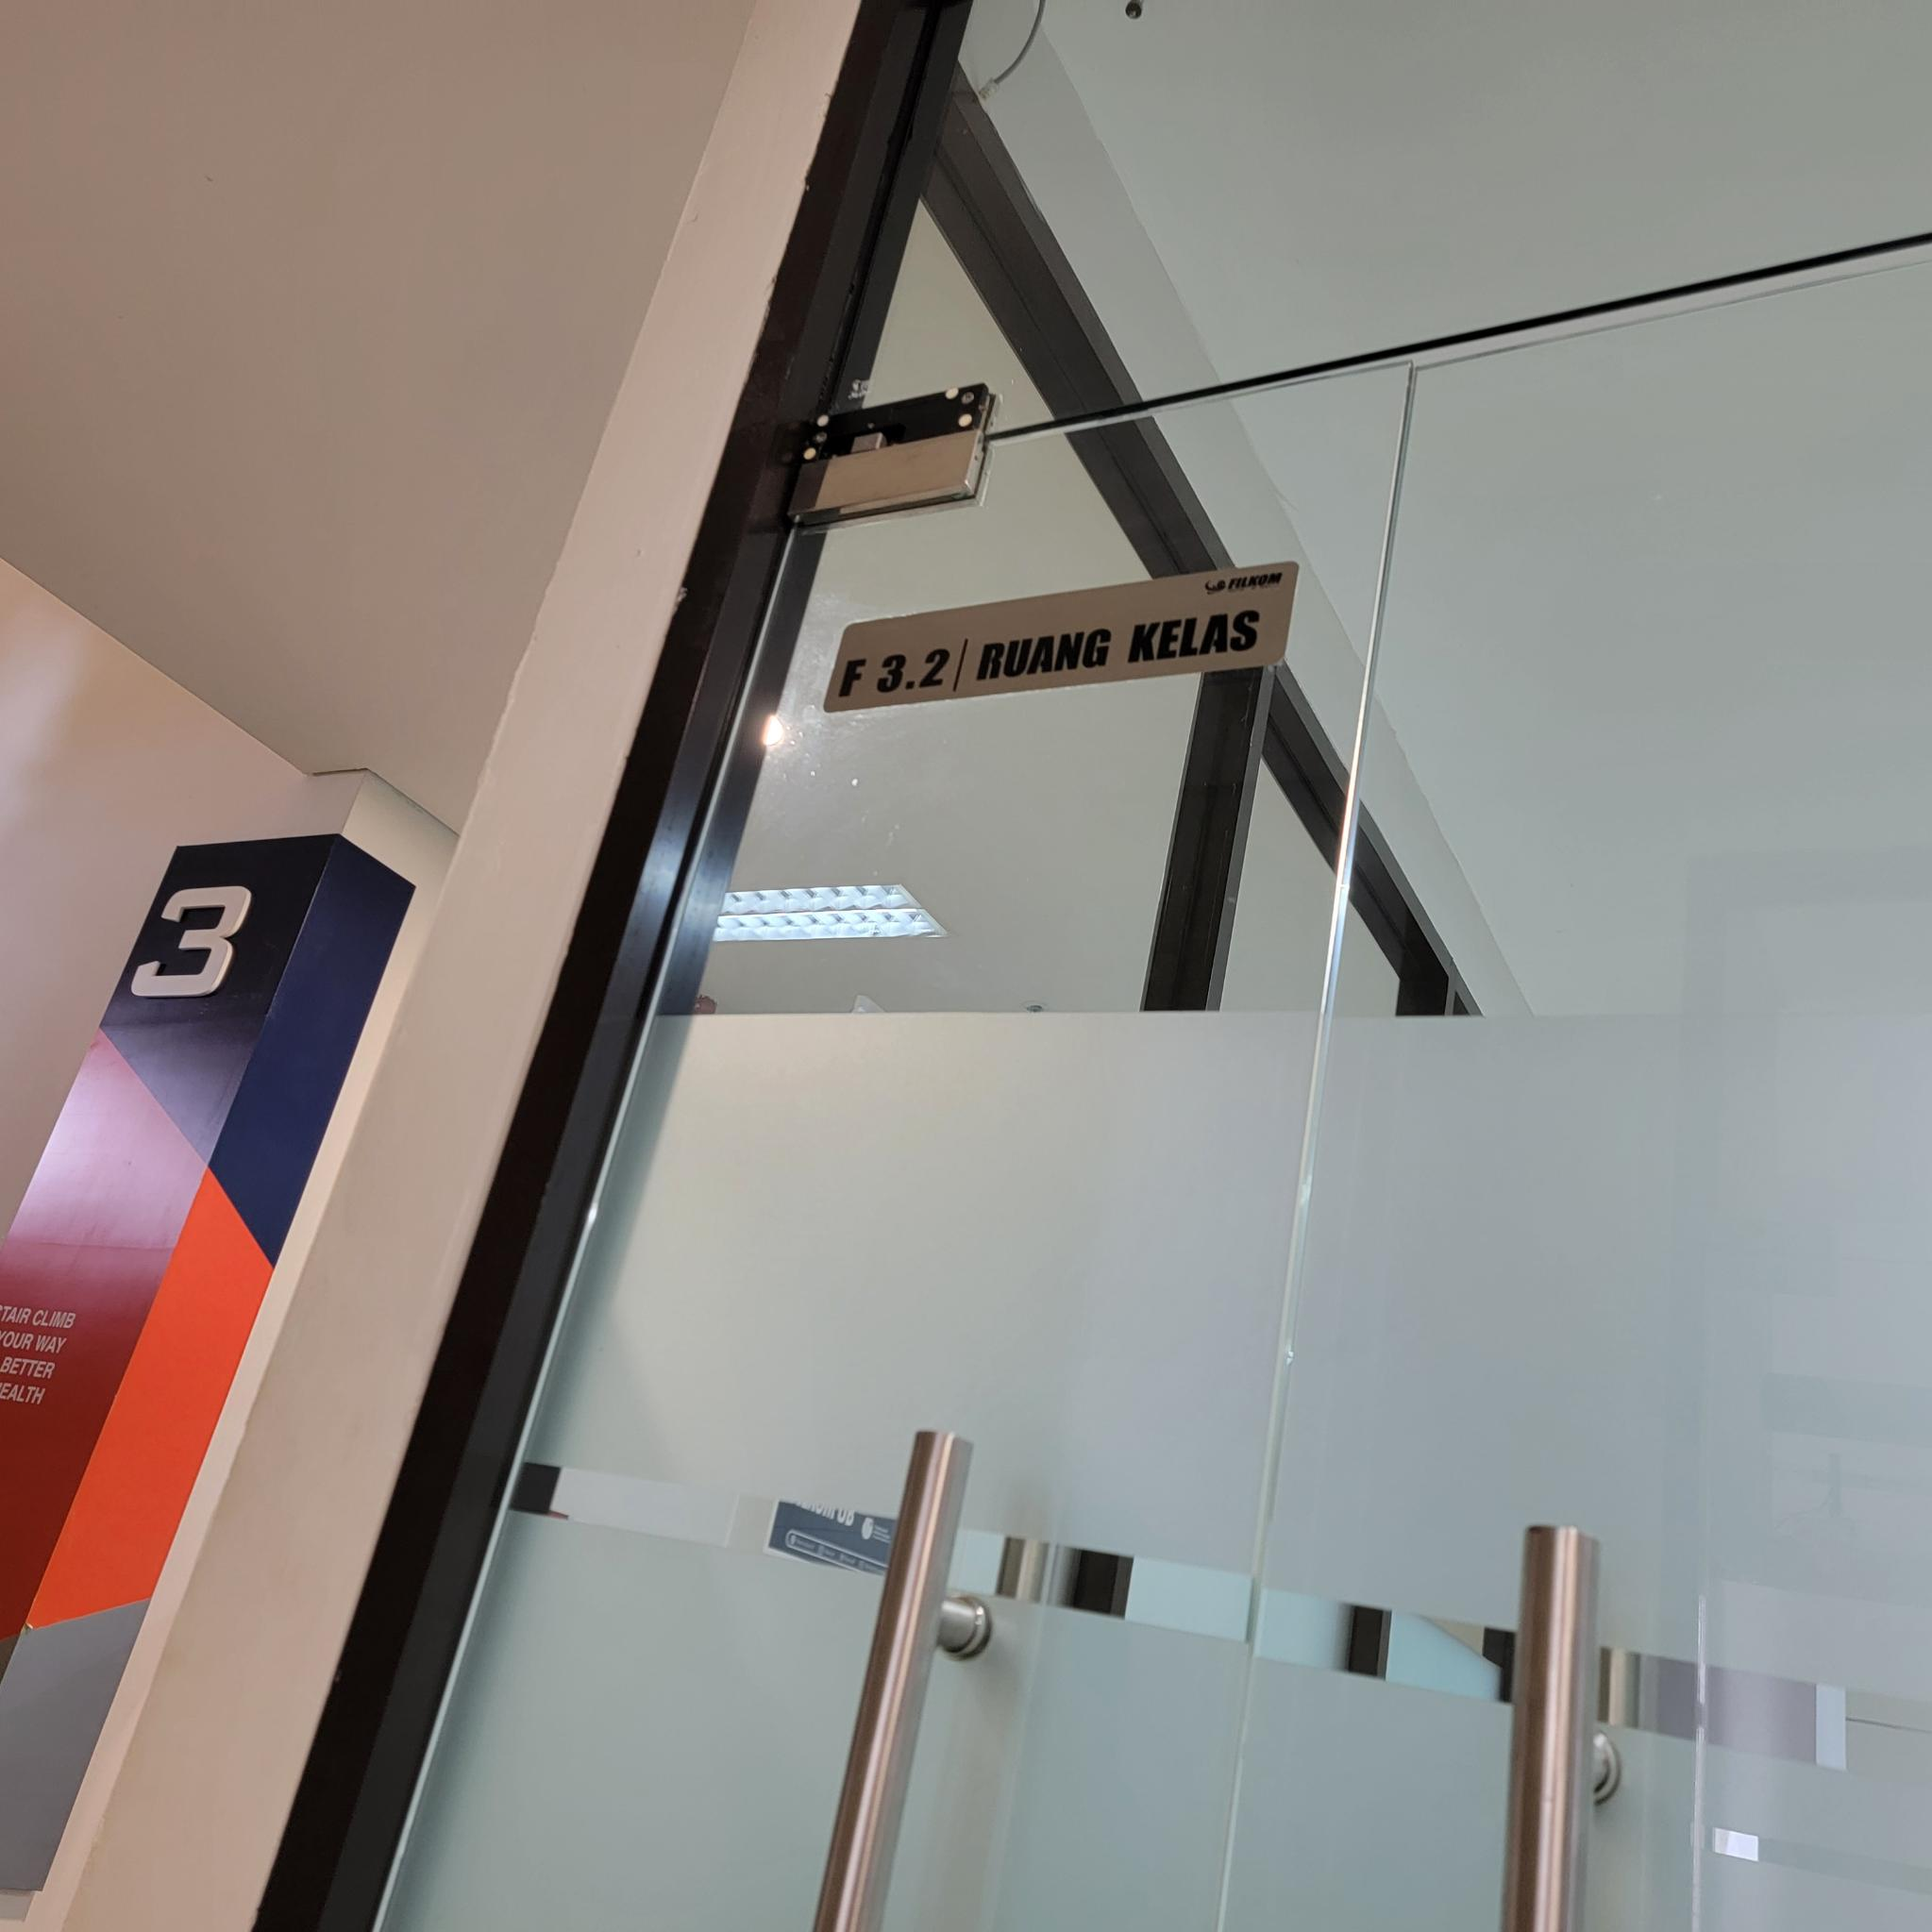plate: (819, 561, 1300, 717)
